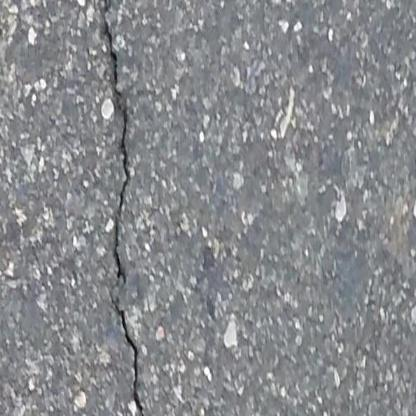Cracks: (97, 0, 152, 416)
